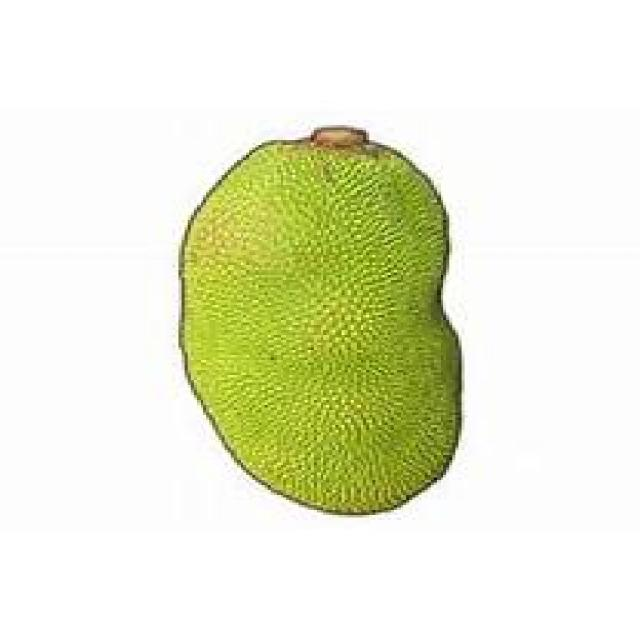Fruit: (150, 115, 502, 537)
